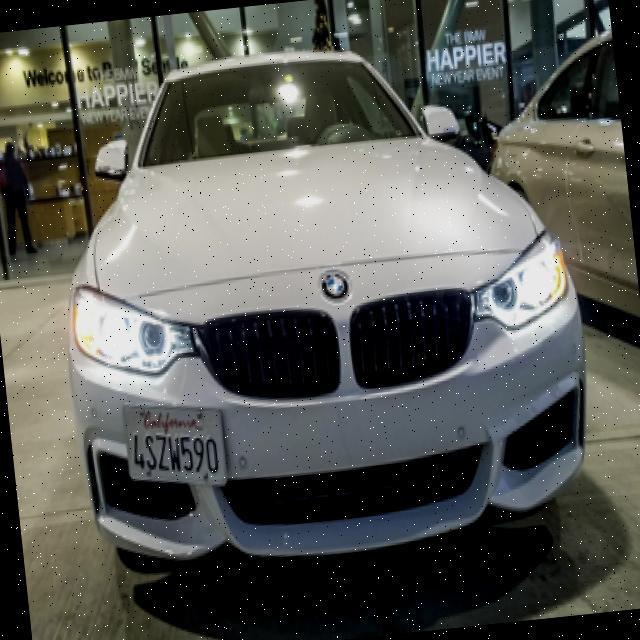Autre: (118, 391, 232, 496)
